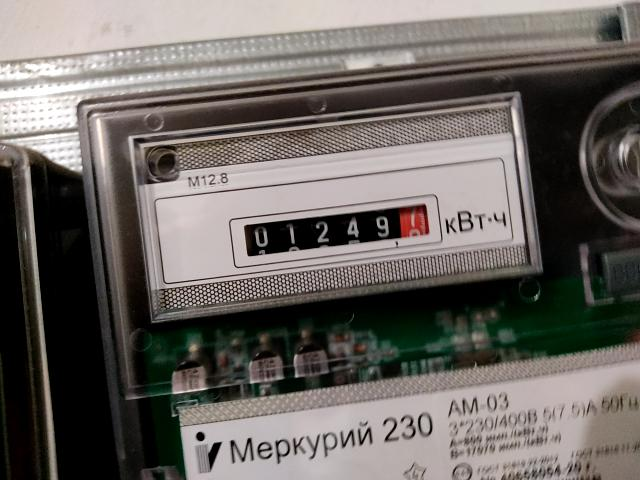0: (251, 222, 270, 248)
1: (283, 221, 298, 246)
2: (313, 219, 333, 245)
4: (345, 213, 363, 240)
7: (405, 205, 420, 229)
9: (374, 213, 392, 238)
screen: (223, 197, 456, 272)
